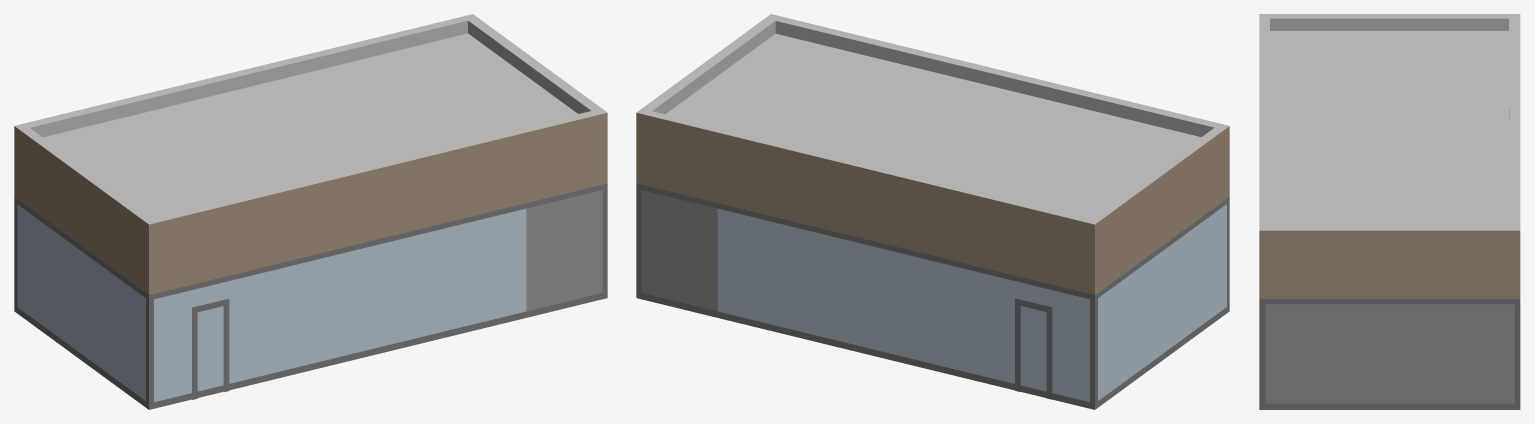
Rendered from omskheartcafelod.glb.
3 views of the same model, side by side, from view 1: azimuth 30°, elevation 25°; view 2: azimuth 150°, elevation 25°; view 3: azimuth 270°, elevation 25° (orthographic). The views are drawn at different scales.
Parts seen in each view (by area): view 1: omskheartcafelod; view 2: omskheartcafelod; view 3: omskheartcafelod.
Boxes of the visible parts, <box> form: omskheartcafelod: <box>14,14,607,409</box>; omskheartcafelod: <box>636,14,1229,409</box>; omskheartcafelod: <box>1259,14,1520,409</box>.
Bounding box in the file's own units: 16.06 × 6.2 × 8.23.
1 material, 1 textured.
